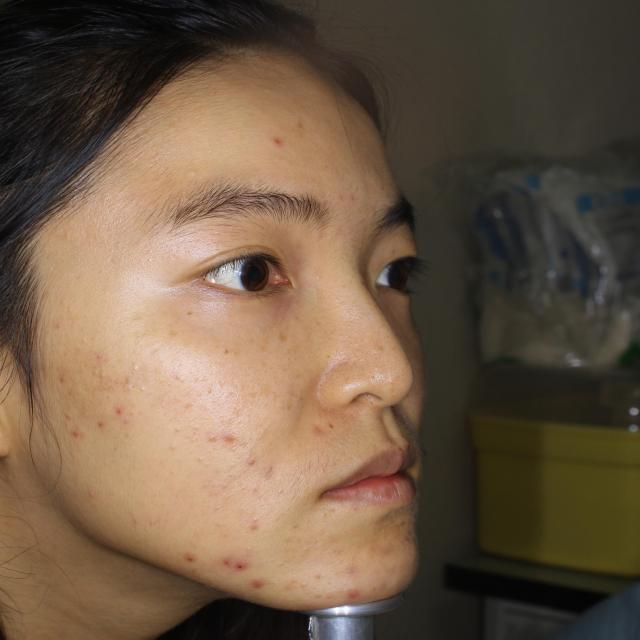pustule: (100, 401, 134, 440), (194, 424, 234, 446), (169, 544, 199, 568), (62, 419, 90, 444), (336, 583, 369, 604), (268, 132, 290, 162), (243, 570, 265, 594), (347, 553, 369, 576), (231, 449, 257, 468), (237, 547, 250, 576), (220, 554, 230, 572)
